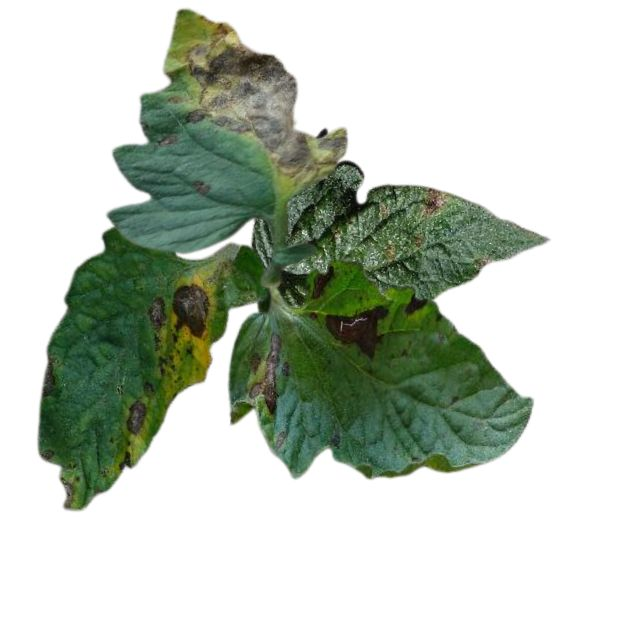Early_blight: (185, 12, 347, 179), (322, 303, 388, 362), (247, 330, 289, 417), (171, 280, 211, 344), (122, 399, 149, 434), (308, 266, 334, 301), (56, 472, 77, 509), (422, 187, 446, 218), (402, 289, 429, 316), (147, 297, 167, 332), (41, 354, 59, 388), (194, 178, 212, 199), (156, 130, 177, 148)
